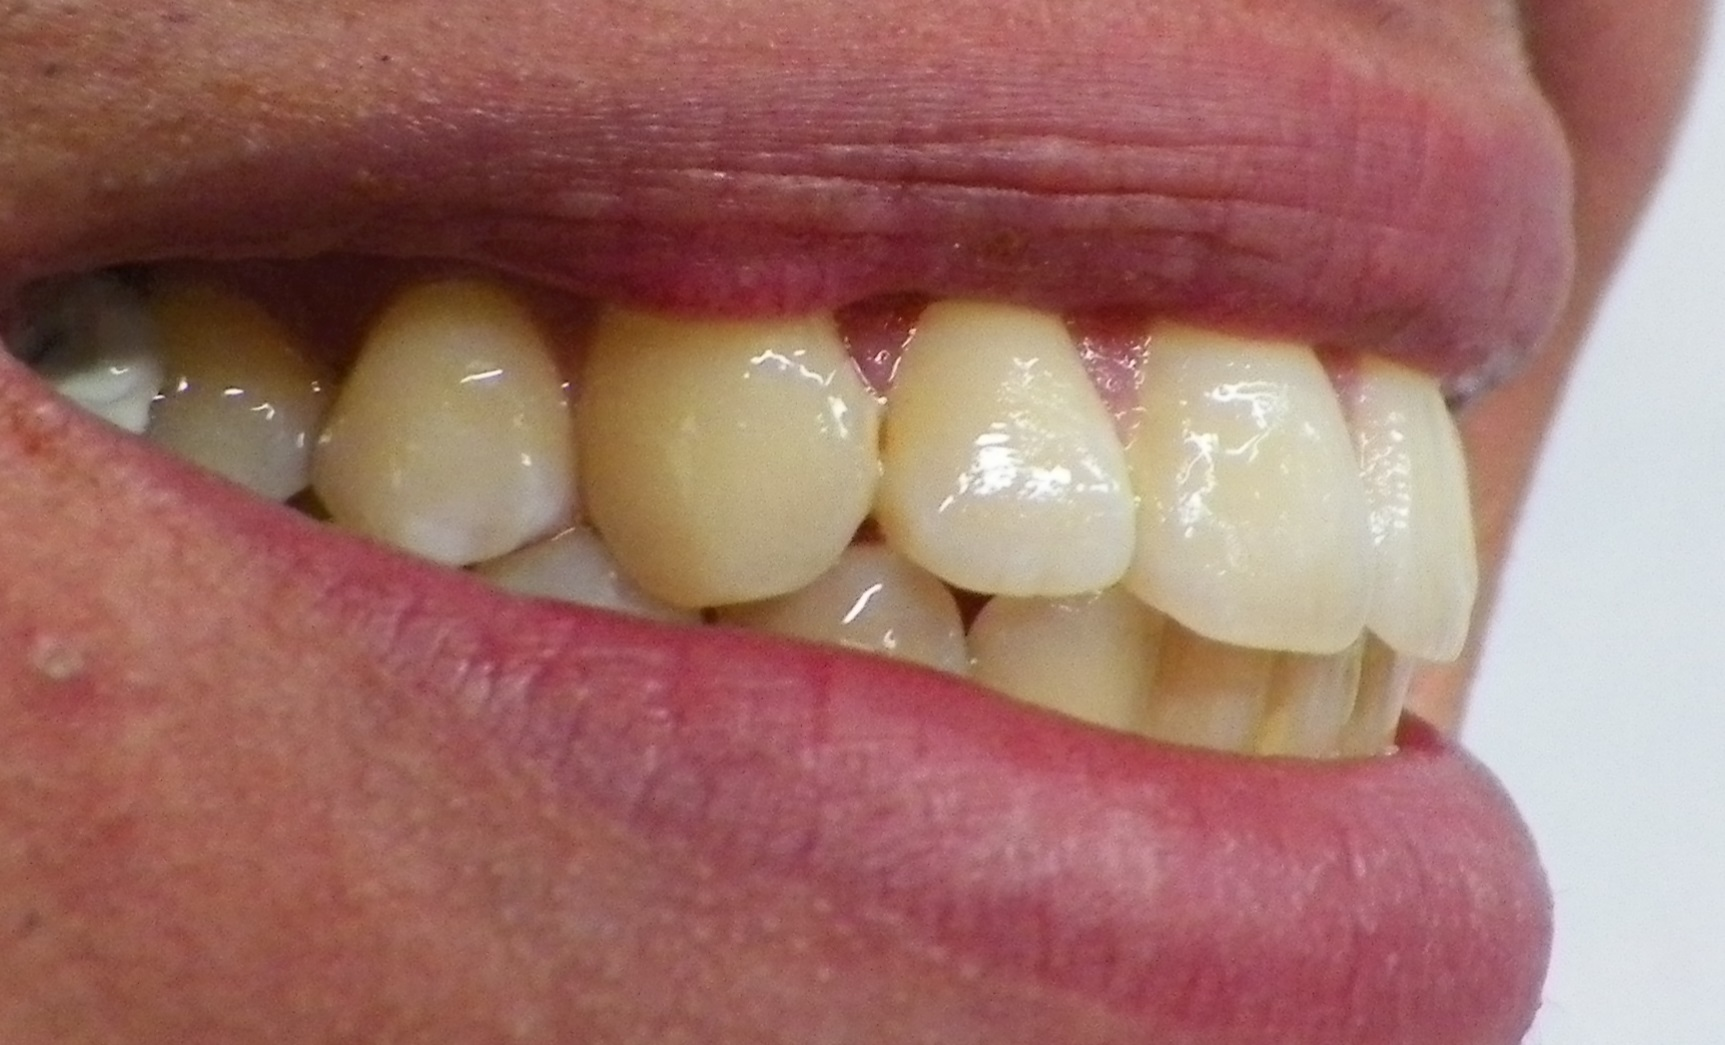boca: (26, 304, 1477, 755)
